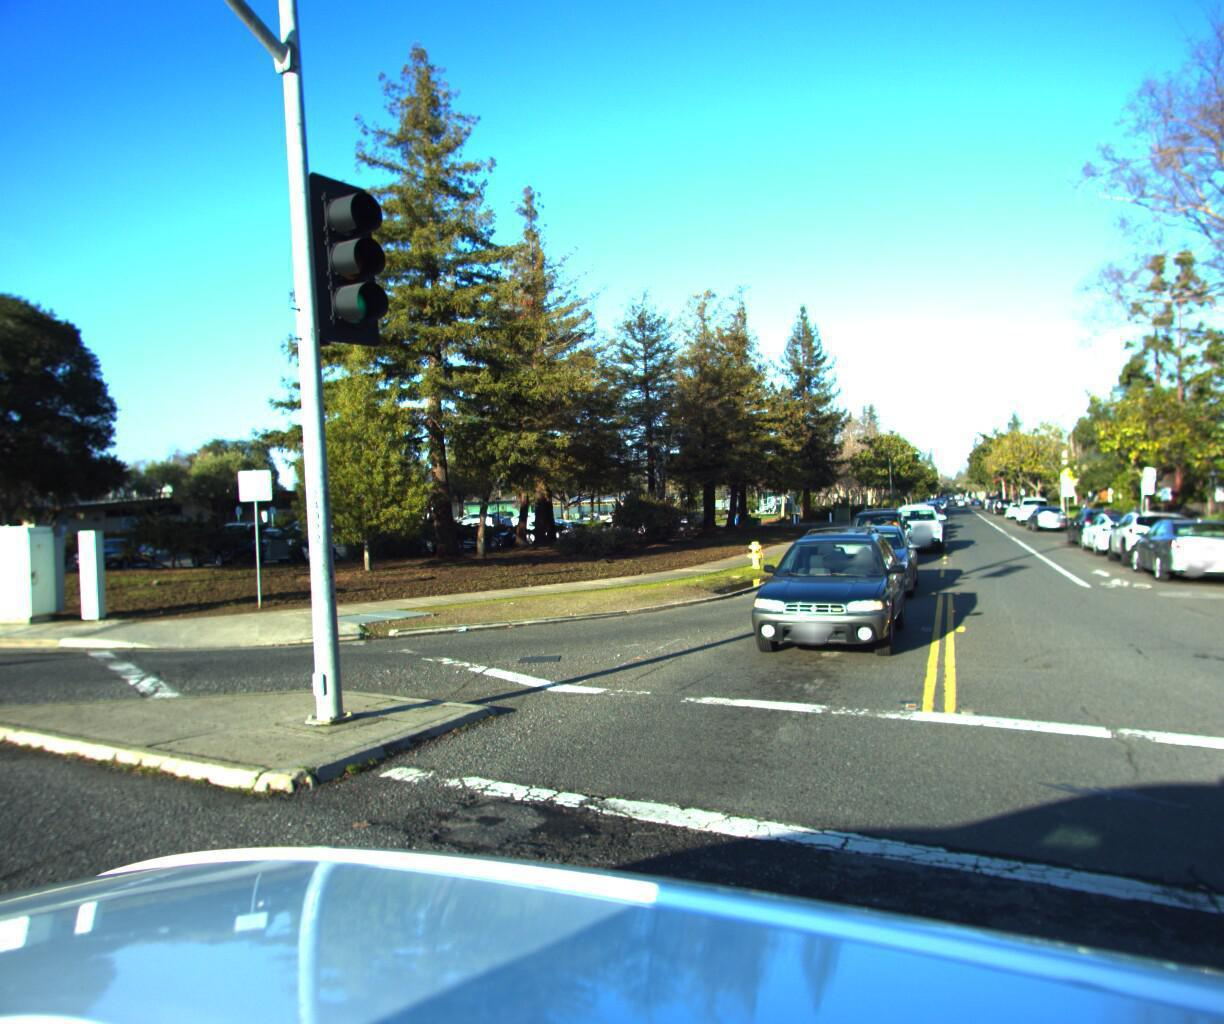car: (733, 519, 917, 680), (812, 515, 924, 603), (1124, 505, 1224, 586), (1101, 499, 1211, 567), (836, 501, 916, 570), (1079, 502, 1168, 555), (883, 496, 947, 550), (1064, 498, 1138, 543), (1025, 499, 1072, 530), (905, 493, 944, 525), (1014, 487, 1053, 518), (1002, 493, 1030, 517)
